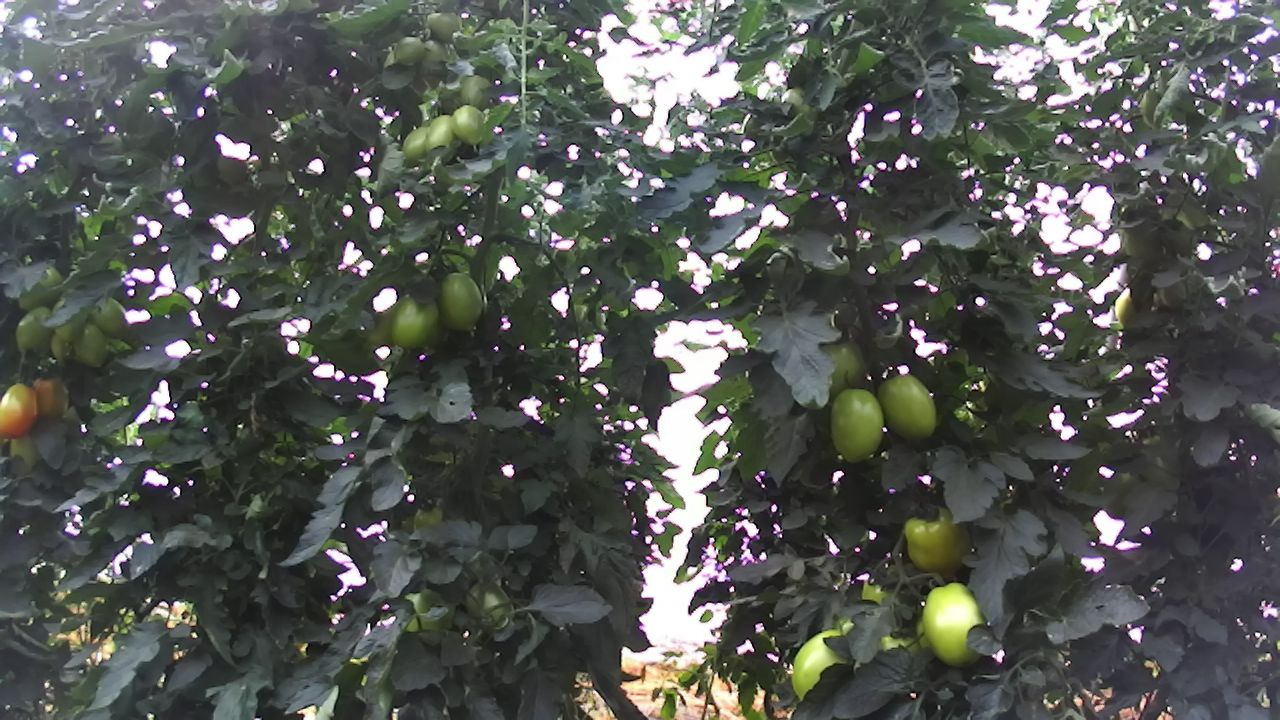tomato: (897, 499, 980, 586), (918, 577, 990, 669), (827, 385, 888, 467), (874, 373, 938, 442), (433, 269, 485, 336), (386, 295, 440, 353), (63, 317, 111, 371), (0, 379, 41, 441), (29, 372, 74, 421), (12, 304, 53, 356), (87, 292, 127, 336), (448, 101, 487, 145), (423, 110, 457, 159), (398, 123, 432, 165), (425, 9, 464, 43), (393, 33, 427, 68)
